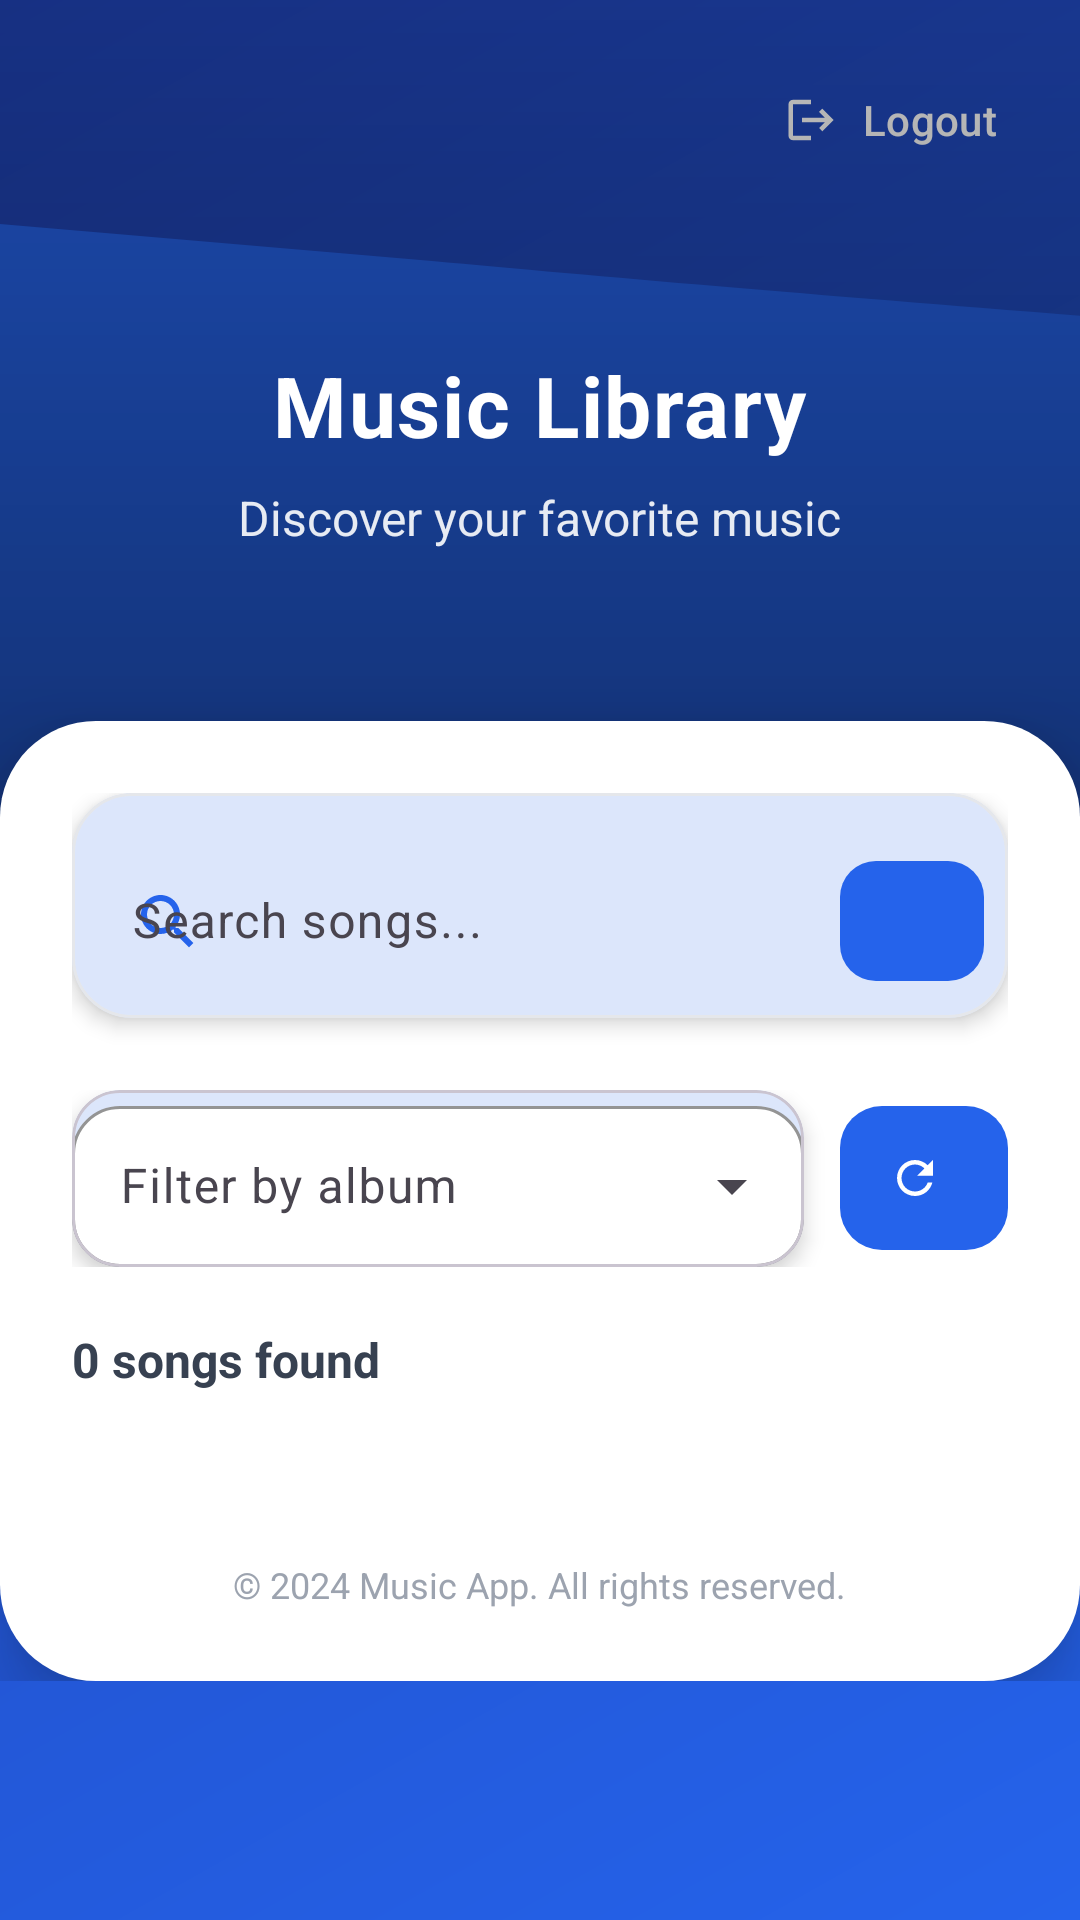

Icons on this 1080*1920 Android screen, each with its box as (x1, y1, x2, y2):
refresh: (840, 1106, 1008, 1250)
